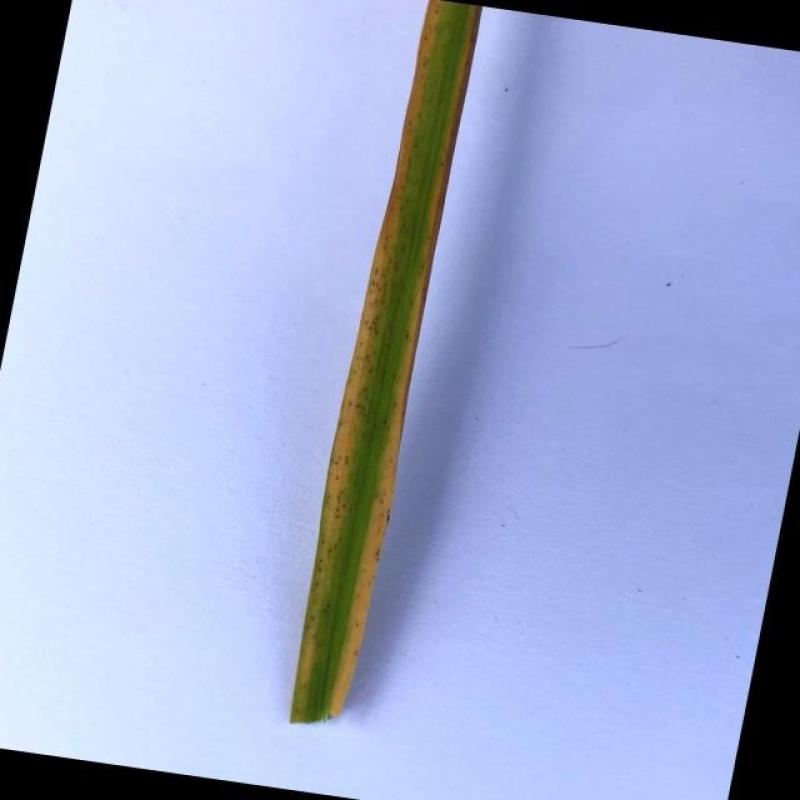Rice Tungro: (289, 0, 486, 724)
